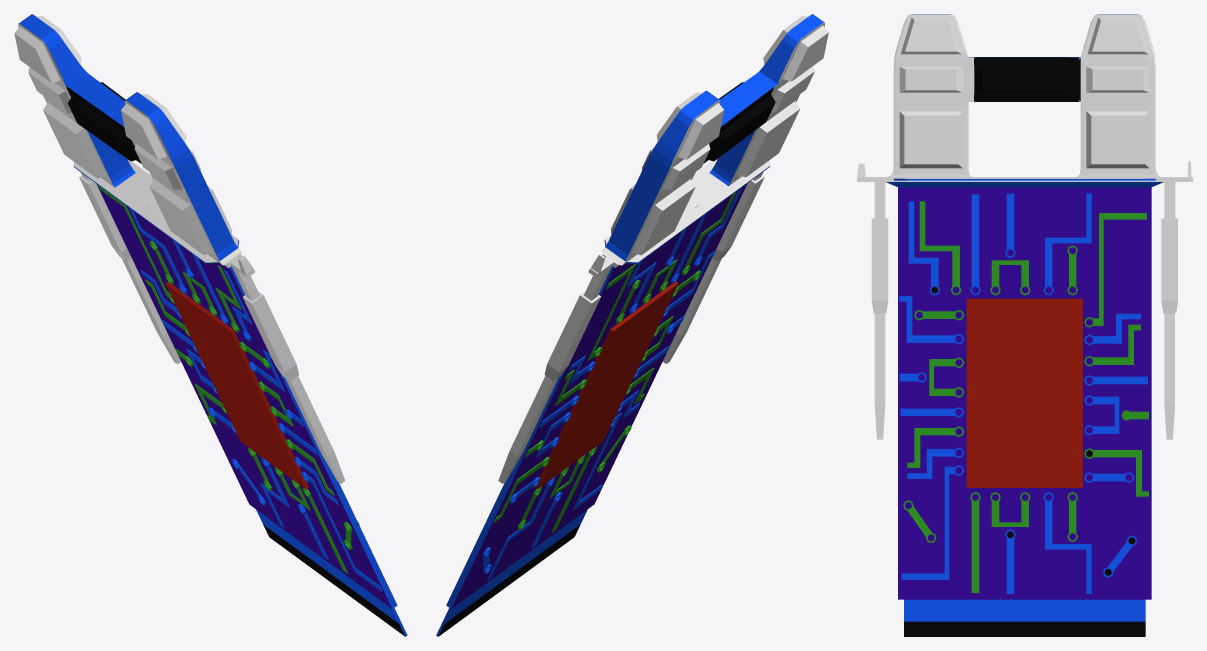
Rendered from chip_key.fbx.
The picture shows the model from 3 angles, left to right: view 1: azimuth 30°, elevation 25°; view 2: azimuth 150°, elevation 25°; view 3: azimuth 270°, elevation 25°; orthographic projection. The views are drawn at different scales.
Visible parts, largest first — view 1: chip_key; view 2: chip_key; view 3: chip_key.
Part boxes in pixels (x1,y1,x2,y2): chip_key: [14, 14, 407, 636]; chip_key: [436, 14, 828, 636]; chip_key: [857, 14, 1192, 636].
Bounding box in the file's own units: 431 × 920 × 540.
